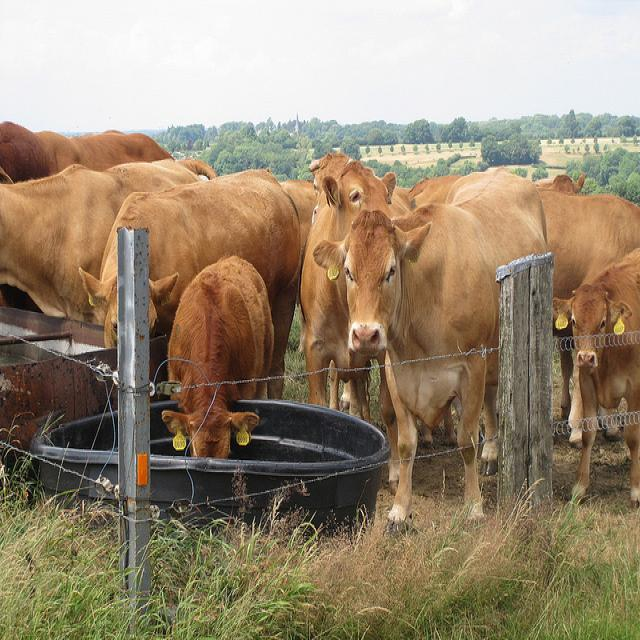cow: (312, 163, 549, 541), (77, 166, 300, 398), (0, 157, 213, 324), (300, 161, 410, 419), (161, 256, 273, 459), (555, 260, 637, 507), (0, 120, 172, 180), (388, 170, 585, 222), (536, 185, 639, 284), (307, 151, 360, 213)
